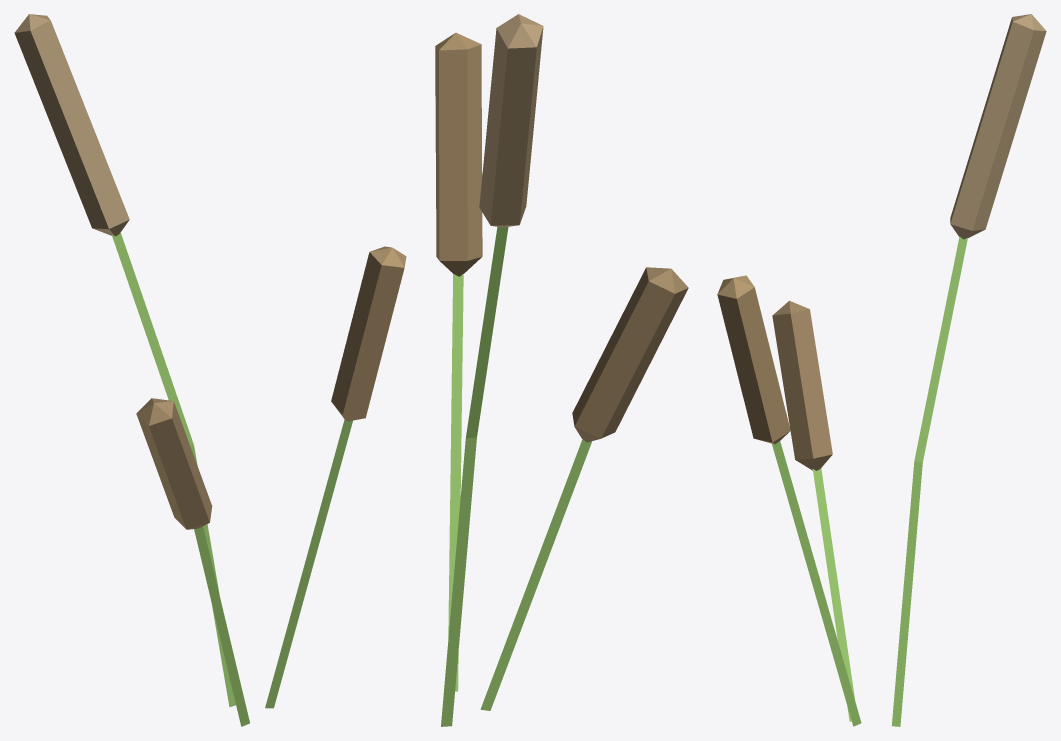
Rendered from Reed_b_06.fbx.
The picture shows the model from 3 angles, left to right: view 1: azimuth 30°, elevation 25°; view 2: azimuth 150°, elevation 25°; view 3: azimuth 270°, elevation 25°; orthographic projection. The views are drawn at different scales.
Parts seen in each view (by area): view 1: Reed_b_06; view 2: Reed_b_06; view 3: Reed_b_06.
Boxes of the visible parts, box(x1,y1,x2,y2) form: Reed_b_06: box(14, 14, 406, 726); Reed_b_06: box(435, 14, 688, 726); Reed_b_06: box(717, 14, 1046, 726).
Bounding box in the file's own units: 39.71 × 107 × 49.14.
